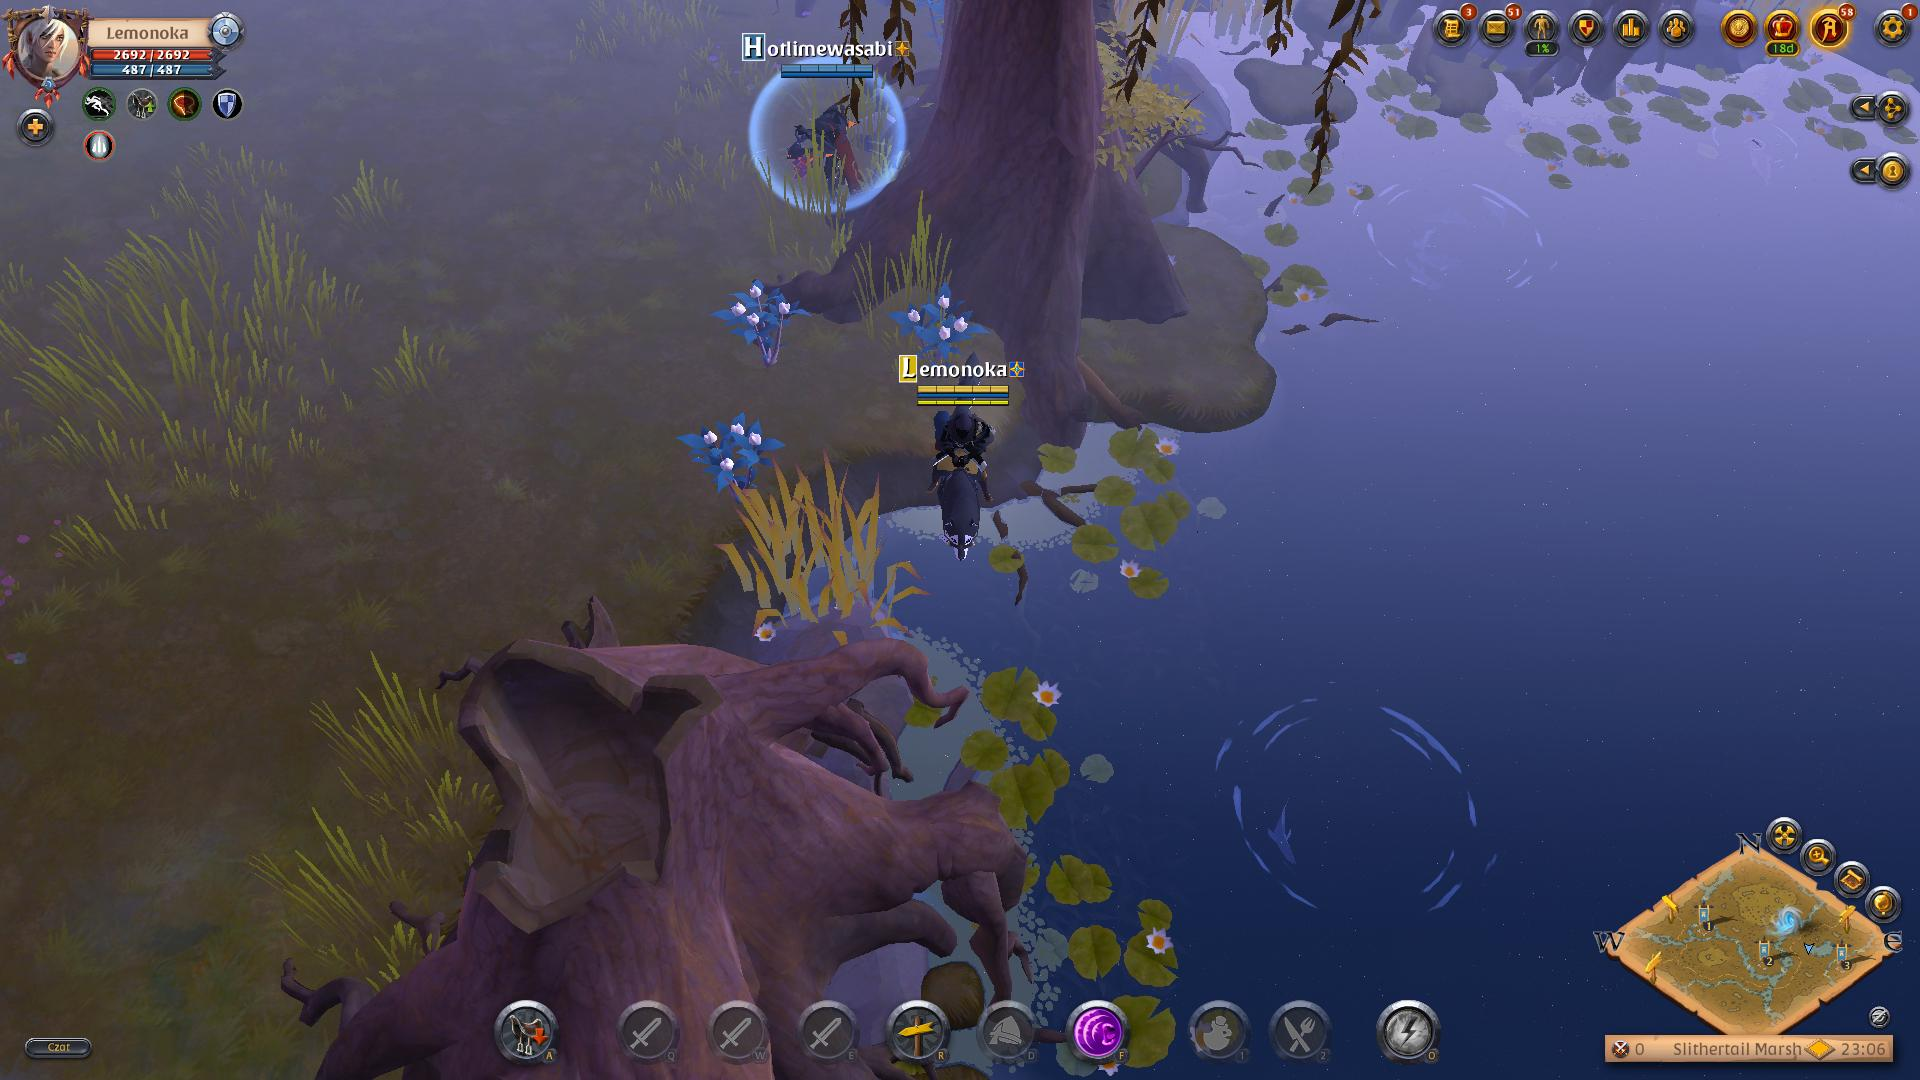fiber tier 4: (680, 413, 789, 500), (709, 276, 808, 365), (897, 286, 992, 365)
fish: (1208, 675, 1511, 935), (1350, 146, 1560, 315)
